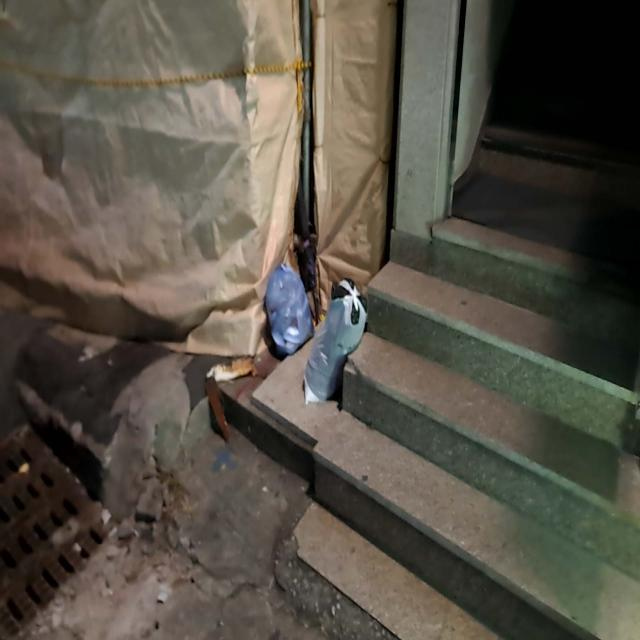Garbage_Bag: (304, 282, 370, 409), (263, 256, 316, 353)
